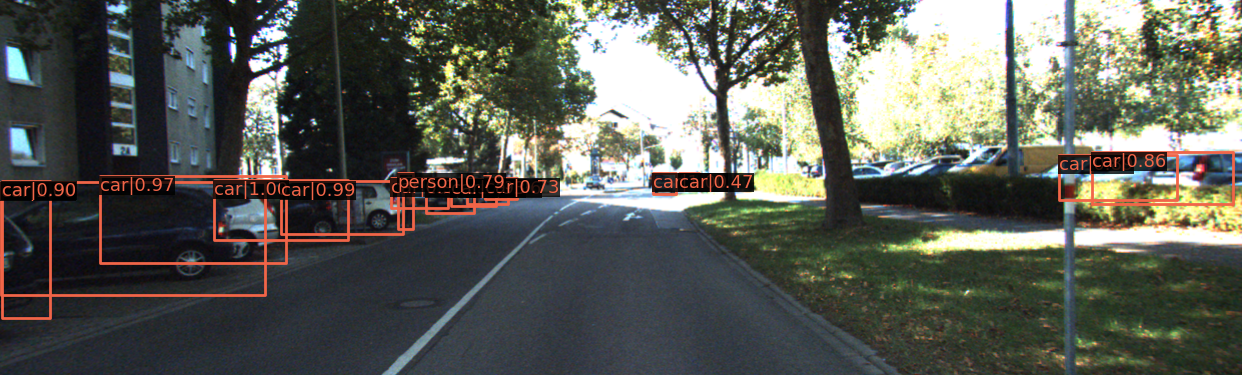car: (1, 179, 235, 289), (51, 181, 284, 279), (271, 183, 404, 234), (234, 184, 334, 241), (426, 180, 474, 214), (444, 180, 488, 209)
person: (402, 182, 415, 230), (396, 195, 410, 229)
